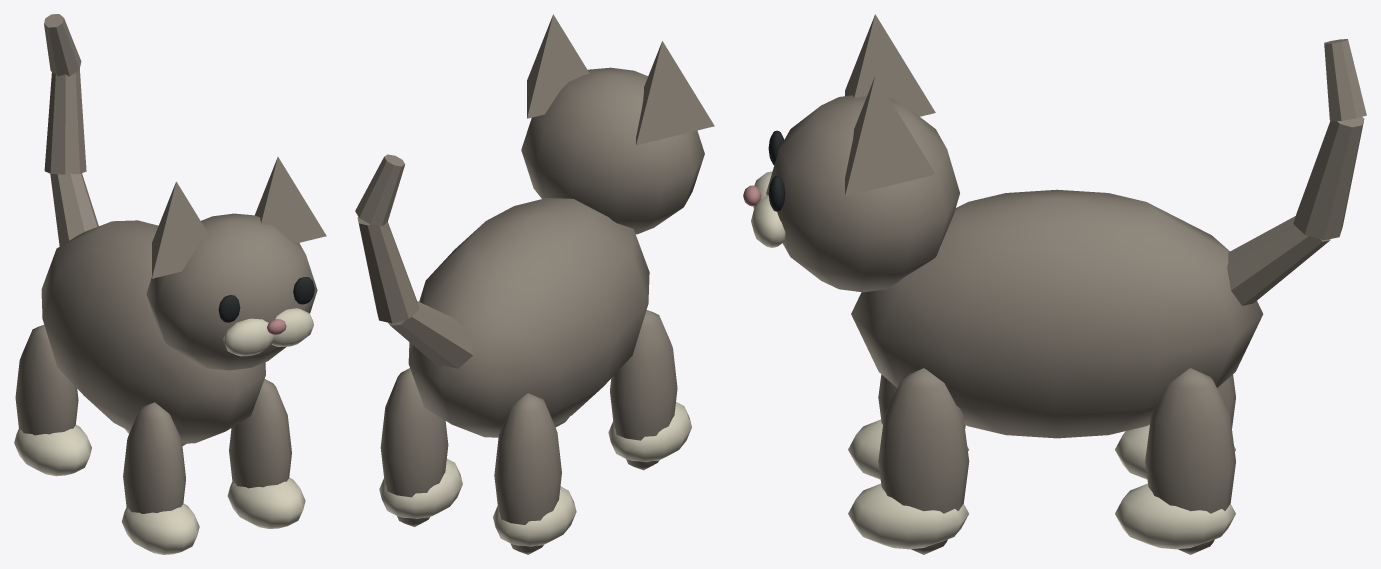
Rendered from cat.glb.
3 renders of one model, left to right at view 1: azimuth 30°, elevation 25°; view 2: azimuth 150°, elevation 25°; view 3: azimuth 270°, elevation 25°, orthographic. The views are drawn at different scales.
Visible parts, largest first — view 1: body, head, leg, leg.002, leg.001, tail_segment.001, ear, ear.001, paw.001, paw.002, paw, tail_segment (+5 smaller); view 2: body, head, leg.001, leg.003, leg, ear, tail_segment.001, ear.001, tail_segment, paw.001, paw, paw.003 (+1 smaller); view 3: body, head, leg.003, leg.002, ear.001, tail_segment.001, paw.003, paw.002, tail_segment, ear, tail_segment.002, paw (+2 smaller).
Boxes of the visible parts, left/top/right/bottom form: body: left=41, top=220, right=265, bottom=443; head: left=146, top=213, right=317, bottom=370; leg: left=123, top=402, right=185, bottom=513; leg.002: left=229, top=379, right=291, bottom=488; leg.001: left=15, top=325, right=78, bottom=435; tail_segment.001: left=44, top=69, right=86, bottom=174; ear: left=152, top=181, right=209, bottom=278; ear.001: left=255, top=157, right=326, bottom=243; paw.001: left=14, top=425, right=91, bottom=476; paw.002: left=227, top=477, right=305, bottom=528; paw: left=121, top=503, right=199, bottom=554; tail_segment: left=50, top=173, right=98, bottom=246; body: left=408, top=198, right=649, bottom=437; head: left=521, top=67, right=704, bottom=234; leg.001: left=494, top=393, right=561, bottom=554; leg.003: left=380, top=368, right=448, bottom=526; leg: left=610, top=310, right=677, bottom=470; ear: left=636, top=41, right=714, bottom=145; tail_segment.001: left=357, top=217, right=419, bottom=323; ear.001: left=527, top=14, right=589, bottom=118; tail_segment: left=388, top=301, right=473, bottom=368; paw.001: left=493, top=486, right=576, bottom=546; paw: left=608, top=402, right=691, bottom=462; paw.003: left=379, top=459, right=462, bottom=518; body: left=851, top=189, right=1263, bottom=438; head: left=766, top=95, right=959, bottom=292; leg.003: left=1145, top=368, right=1235, bottom=554; leg.002: left=878, top=368, right=969, bottom=554; ear.001: left=845, top=76, right=935, bottom=196; tail_segment.001: left=1293, top=117, right=1364, bottom=240; paw.003: left=1115, top=483, right=1235, bottom=549; paw.002: left=848, top=483, right=968, bottom=549; tail_segment: left=1227, top=216, right=1330, bottom=305; ear: left=845, top=14, right=935, bottom=116; tail_segment.002: left=1324, top=39, right=1366, bottom=121; paw: left=848, top=419, right=969, bottom=479.
Bounding box in the file's own units: 0.4132 × 0.8975 × 1.03.
